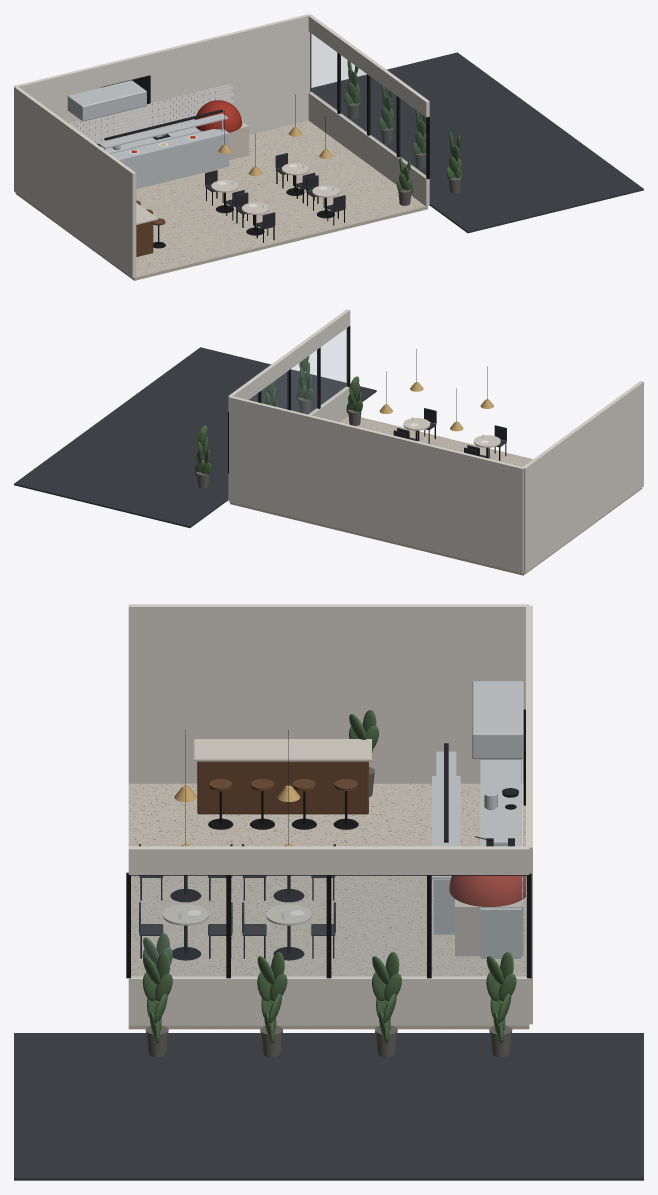
File: restaurant.glb
3 renders of one model, top to bottom at view 1: azimuth 30°, elevation 25°; view 2: azimuth 150°, elevation 25°; view 3: azimuth 270°, elevation 25°, orthographic. The views are drawn at different scales.
Visible parts, largest first — view 1: windowBand, walls, floor, windowGlass, pass, tiles, plant (×5), hood, table2, table3, shelf, dome (+6 smaller); view 2: walls, windowBand, windowGlass, floor, plant (×3), table3, table2; view 3: windowBand, walls, floor, windowGlass, bar, plant (×5), line, hood, dome, table1, table3, pass (+2 smaller).
Boxes of the visible parts, bbox=[...] form: windowBand: bbox=[308, 14, 643, 233]; walls: bbox=[14, 14, 310, 277]; floor: bbox=[15, 120, 427, 280]; windowGlass: bbox=[310, 33, 425, 176]; pass: bbox=[104, 116, 229, 188]; tiles: bbox=[69, 84, 233, 143]; plant (×5): bbox=[344, 60, 462, 205]; hood: bbox=[67, 80, 146, 121]; table2: bbox=[235, 192, 275, 242]; table3: bbox=[306, 175, 345, 225]; shelf: bbox=[99, 113, 228, 148]; dome: bbox=[195, 100, 242, 132]; walls: bbox=[229, 381, 643, 573]; windowBand: bbox=[14, 309, 376, 527]; windowGlass: bbox=[250, 328, 347, 414]; floor: bbox=[230, 416, 642, 575]; plant (×3): bbox=[195, 356, 362, 488]; table3: bbox=[397, 408, 436, 443]; table2: bbox=[467, 425, 506, 460]; windowBand: bbox=[14, 846, 643, 1180]; walls: bbox=[128, 604, 532, 1024]; floor: bbox=[128, 783, 529, 1029]; windowGlass: bbox=[131, 876, 526, 976]; bar: bbox=[194, 739, 371, 814]; plant (×5): bbox=[142, 710, 516, 1056]; line: bbox=[480, 760, 521, 958]; hood: bbox=[472, 681, 523, 759]; dome: bbox=[449, 875, 525, 906]; table1: bbox=[242, 902, 335, 960]; table3: bbox=[139, 902, 232, 960]; pass: bbox=[432, 776, 460, 934].
Bounding box in the file's own units: 16.26 × 3.53 × 11.
20 materials, 1 textured.
